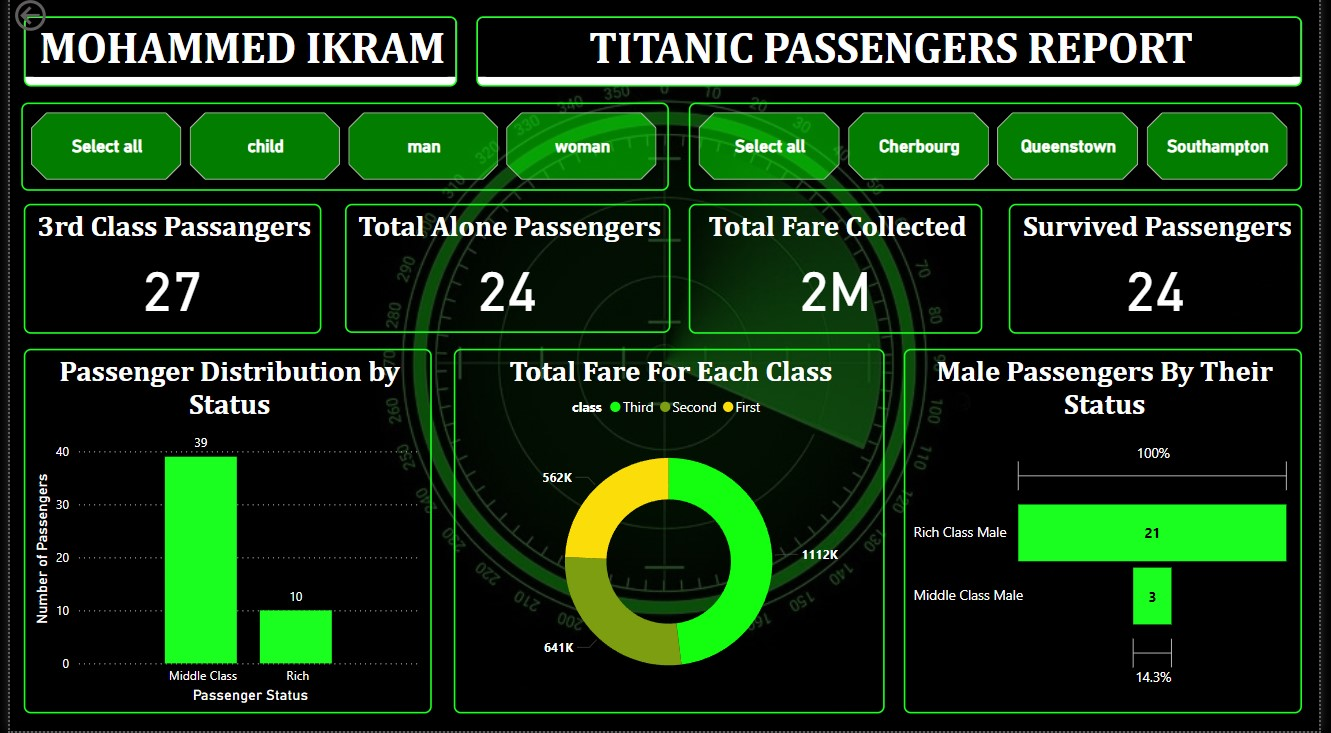

This screenshot's page, from the dashboard's own definition file:
{"tool":"powerbi","page":{"name":"Page 1","canvas":[1280,720],"ordinal":0},"visuals":[{"type":"card","title":"3rd Class Passangers","fields":{"Values":["Data.Class_Type"]},"box":[13.5,204.2,291,127.2],"z":0},{"type":"textbox","title":"MOHAMMED IKRAM","box":[13.7,20.6,424,68.6],"z":1000},{"type":"textbox","title":"TITANIC PASSENGERS REPORT","box":[455.6,20.6,808.2,68.6],"z":2000},{"type":"actionButton","box":[0,0,100,40],"z":3000},{"type":"card","title":"Total Alone Passengers","fields":{"Values":["Data.alone"]},"box":[328,204.5,318.4,126.2],"z":4000},{"type":"card","title":"Total Fare Collected","fields":{"Values":["Data.fare"]},"box":[664,204.2,287.4,127.2],"z":5000},{"type":"columnChart","title":"Passenger Distribution by Status","fields":{"Y":["Data.Passenger_No"],"Category":["Data.Passanger_Type"]},"box":[13.7,345.8,399.3,356.8],"z":6000},{"type":"donutChart","title":"Total Fare For Each Class","fields":{"Y":["Data.fare"],"Category":["Data.class"]},"box":[433.6,345.8,421.3,356.8],"z":7000},{"type":"funnel","title":"Male Passengers By Their Status","fields":{"Y":["Data.Passenger_No"],"Category":["Data.Status"]},"box":[874.1,345.8,389.7,356.8],"z":8000},{"type":"card","title":"Survived Passengers","fields":{"Values":["Data.survived"]},"box":[977,204.2,287.4,127.2],"z":9000},{"type":"advancedSlicerVisual","fields":{"Values":["Data.who"]},"box":[11,105.7,634,86.4],"z":10000},{"type":"advancedSlicerVisual","fields":{"Values":["Data.embark_town"]},"box":[664.2,105.7,599.7,86.4],"z":10001}]}

Visuals, with their boxes in screenshot pixels (x1, y1, x2, y2), scaled from the page's 1280x720 canvas onto the 1331x733 screenshot:
"3rd Class Passangers" card: <box>14,208,317,337</box>
"MOHAMMED IKRAM" textbox: <box>14,21,455,91</box>
"TITANIC PASSENGERS REPORT" textbox: <box>474,21,1314,91</box>
actionButton: <box>0,0,104,41</box>
"Total Alone Passengers" card: <box>341,208,672,337</box>
"Total Fare Collected" card: <box>690,208,989,337</box>
"Passenger Distribution by Status" columnChart: <box>14,352,429,715</box>
"Total Fare For Each Class" donutChart: <box>451,352,889,715</box>
"Male Passengers By Their Status" funnel: <box>909,352,1314,715</box>
"Survived Passengers" card: <box>1016,208,1315,337</box>
advancedSlicerVisual - Data.who: <box>11,108,671,196</box>
advancedSlicerVisual - Data.embark_town: <box>691,108,1314,196</box>
